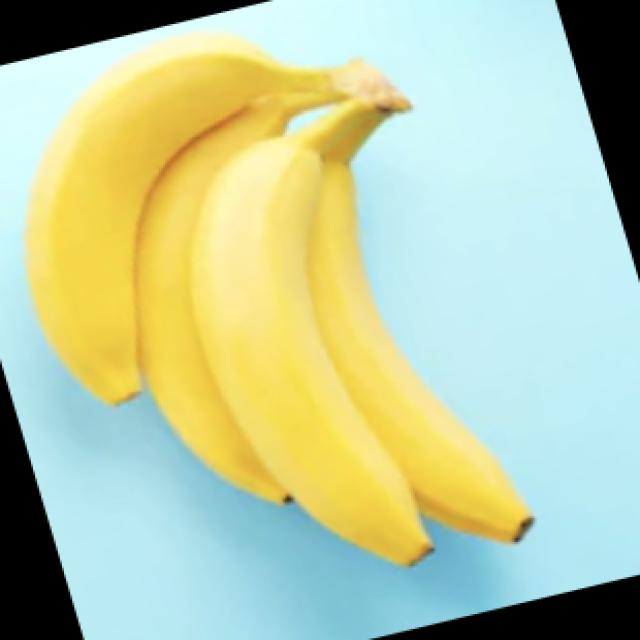god quality banana: (27, 33, 533, 567)
